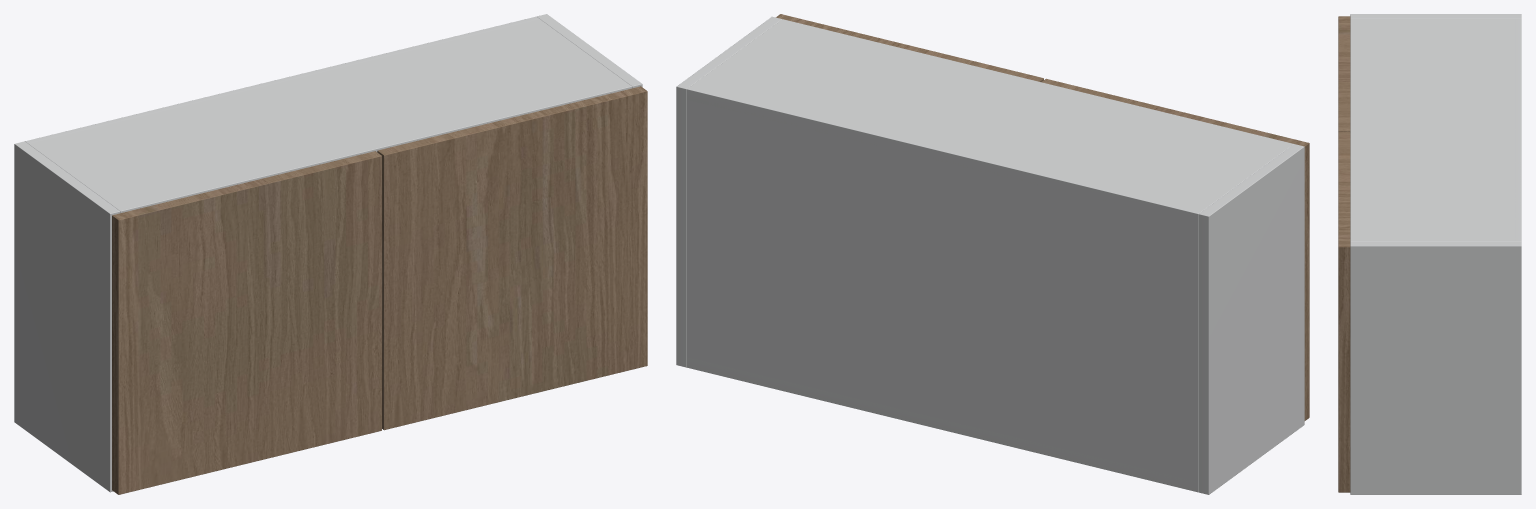
The model's file is oppein-pb-mnw-w3618.glb.
3 renders of one model, left to right at view 1: azimuth 30°, elevation 25°; view 2: azimuth 150°, elevation 25°; view 3: azimuth 270°, elevation 25°, orthographic. The views are drawn at different scales.
Visible parts, largest first — view 1: Door, Door.001, Cabinet top, Cabinet side, Cabinet back, Cabinet side.001; view 2: Cabinet back, Cabinet top, Cabinet side, Cabinet bottom, Cabinet side.001, Door, Door.001; view 3: Cabinet side.001, Cabinet top, Door.001, Cabinet back, Door, Cabinet side.
Boxes of the visible parts, <box> form: Door: <box>112,151,381,494</box>; Door.001: <box>377,86,647,430</box>; Cabinet top: <box>29,19,631,213</box>; Cabinet side: <box>14,141,120,492</box>; Cabinet back: <box>25,16,539,143</box>; Cabinet side.001: <box>537,14,642,88</box>; Cabinet back: <box>687,86,1201,492</box>; Cabinet top: <box>687,19,1293,221</box>; Cabinet side: <box>1198,144,1304,494</box>; Cabinet bottom: <box>687,357,1198,491</box>; Cabinet side.001: <box>676,16,781,367</box>; Door: <box>1041,78,1309,420</box>; Door.001: <box>776,14,1043,81</box>; Cabinet side.001: <box>1350,241,1521,494</box>; Cabinet top: <box>1350,18,1521,241</box>; Door.001: <box>1338,132,1350,492</box>; Cabinet back: <box>1514,18,1521,241</box>; Door: <box>1338,16,1350,131</box>; Cabinet side: <box>1350,14,1521,18</box>.
Size of the model in its own units: 0.9144 by 0.4572 by 0.3048.
2 materials, 1 textured.
